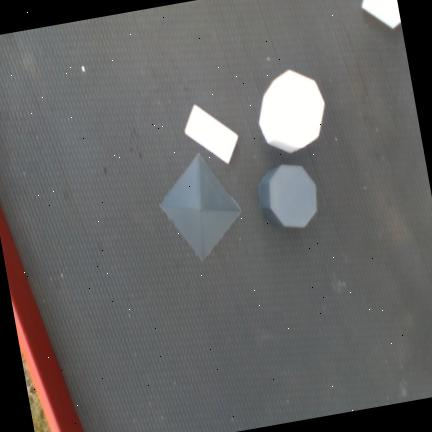Paralelepipedo: (184, 104, 238, 165), (361, 0, 401, 28)
Piramide: (159, 152, 243, 262)
Prisma_hexagonal: (259, 69, 325, 154), (259, 164, 317, 228)
